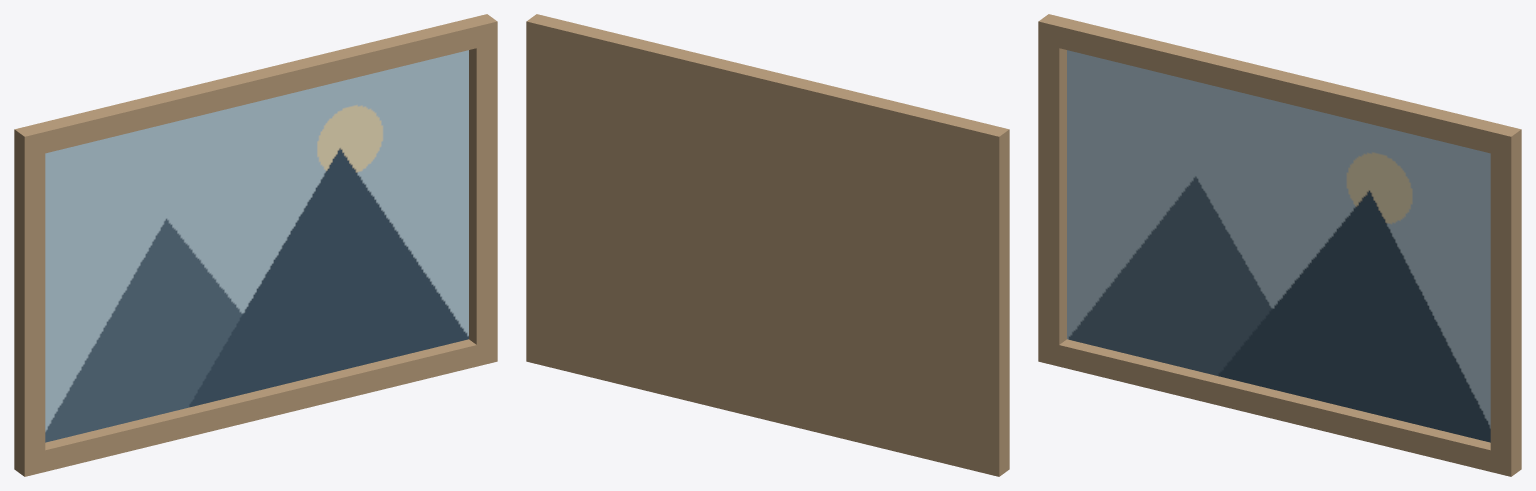
Rendered from wallart_02.glb.
The picture shows the model from 3 angles, left to right: view 1: azimuth 30°, elevation 25°; view 2: azimuth 150°, elevation 25°; view 3: azimuth 330°, elevation 25°; orthographic projection.
Visible parts, largest first — view 1: frame; view 2: frame; view 3: frame.
Boxes of the visible parts, x1,y1,x2,y2 form: frame: (14, 14, 497, 476); frame: (526, 14, 1009, 476); frame: (1038, 14, 1521, 476).
Size of the model in its own units: 0.8 by 0.55 by 0.03.
Materials: 2 (1 with a texture image).
